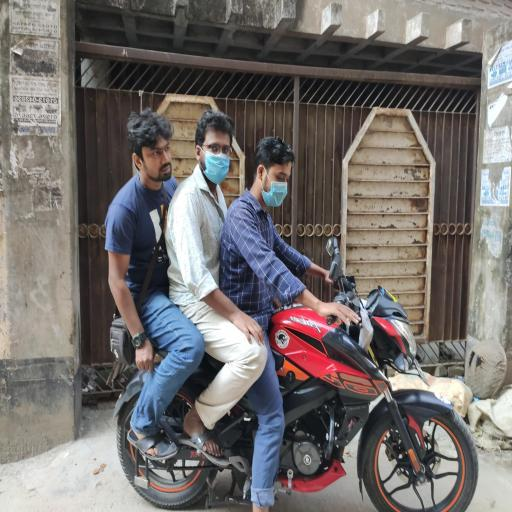no helmet: (241, 125, 299, 243)
triple riding: (71, 99, 472, 512)
